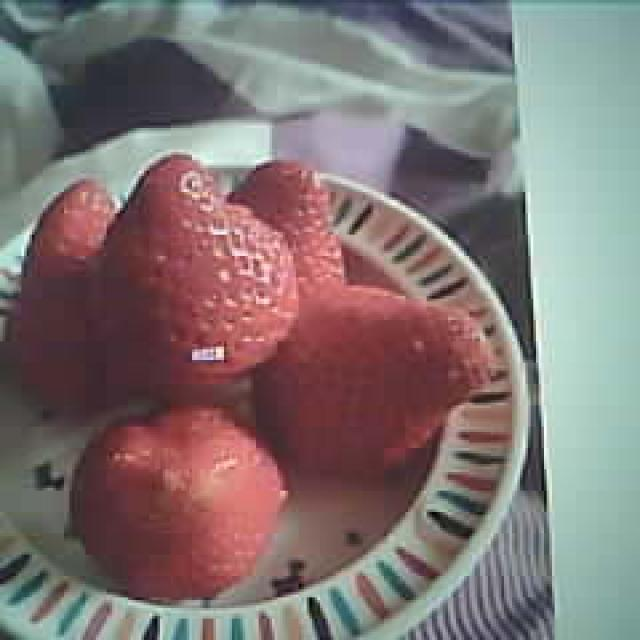ripe: (100, 152, 295, 380), (263, 281, 488, 468), (73, 402, 285, 597)
